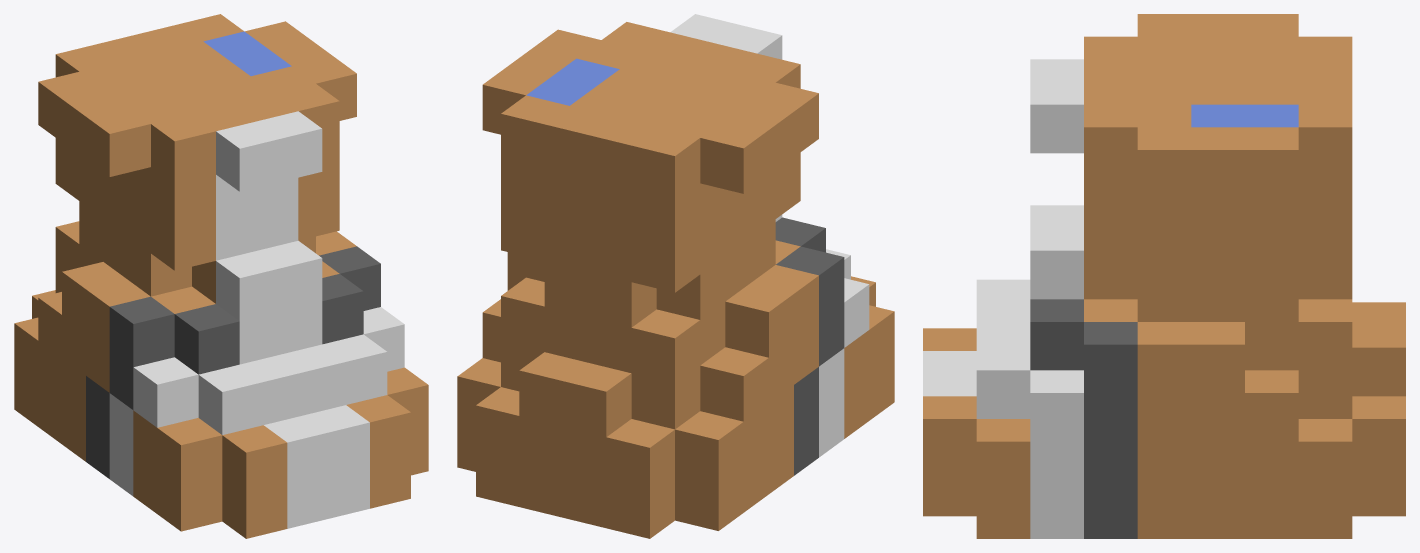
Rendered from FKnightLegLowerR.fbx.
3 renders of one model, left to right at view 1: azimuth 30°, elevation 25°; view 2: azimuth 150°, elevation 25°; view 3: azimuth 270°, elevation 25°, orthographic. The views are drawn at different scales.
Visible parts, largest first — view 1: FemKnightBody_part_4; view 2: FemKnightBody_part_4; view 3: FemKnightBody_part_4.
Part boxes in pixels (left/top/right/bottom): FemKnightBody_part_4: left=14, top=14, right=428, bottom=538; FemKnightBody_part_4: left=457, top=14, right=894, bottom=538; FemKnightBody_part_4: left=923, top=14, right=1405, bottom=538.
Size of the model in its own units: 6 by 8 by 9.
1 material, 1 textured.
